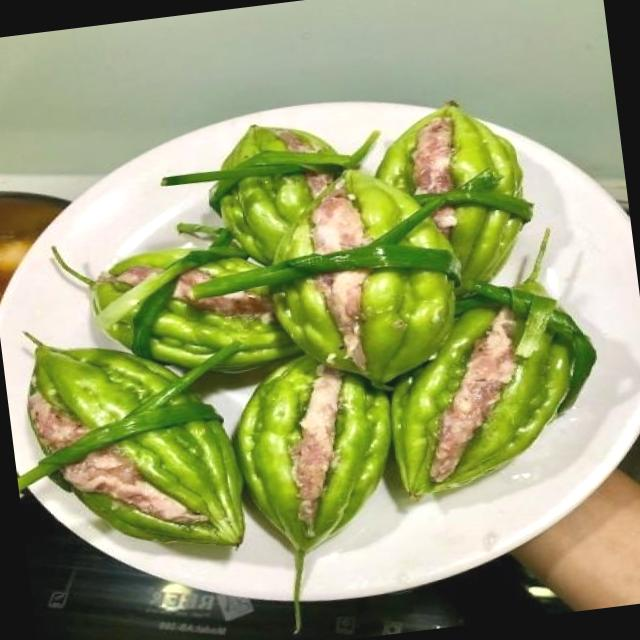kho qua: (394, 302, 576, 497), (236, 361, 391, 550), (57, 419, 245, 544), (273, 268, 453, 383), (147, 257, 296, 371), (28, 343, 175, 453), (378, 103, 523, 196), (275, 173, 416, 261), (214, 173, 334, 264), (437, 204, 521, 280), (93, 248, 176, 310), (223, 124, 336, 166)
